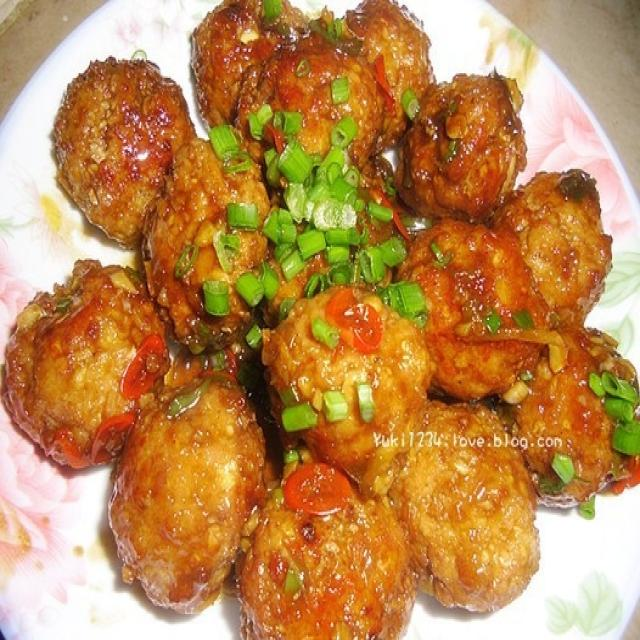猪肉菜式: (19, 13, 628, 612)
